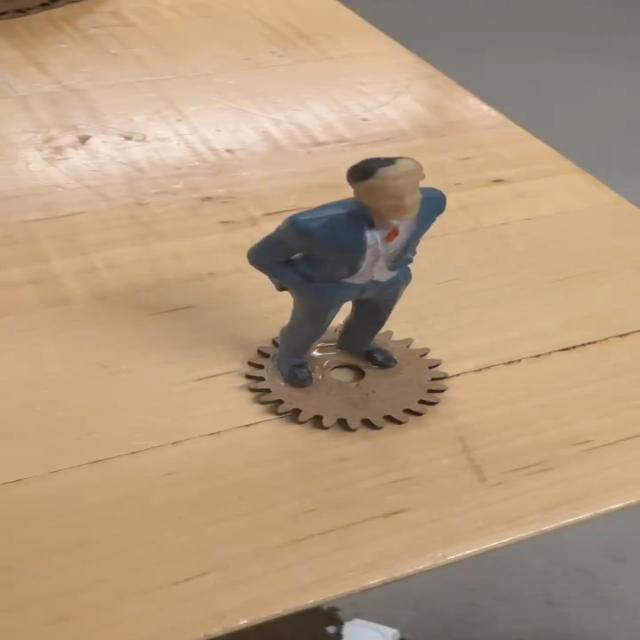Authorized: (246, 140, 459, 408)
